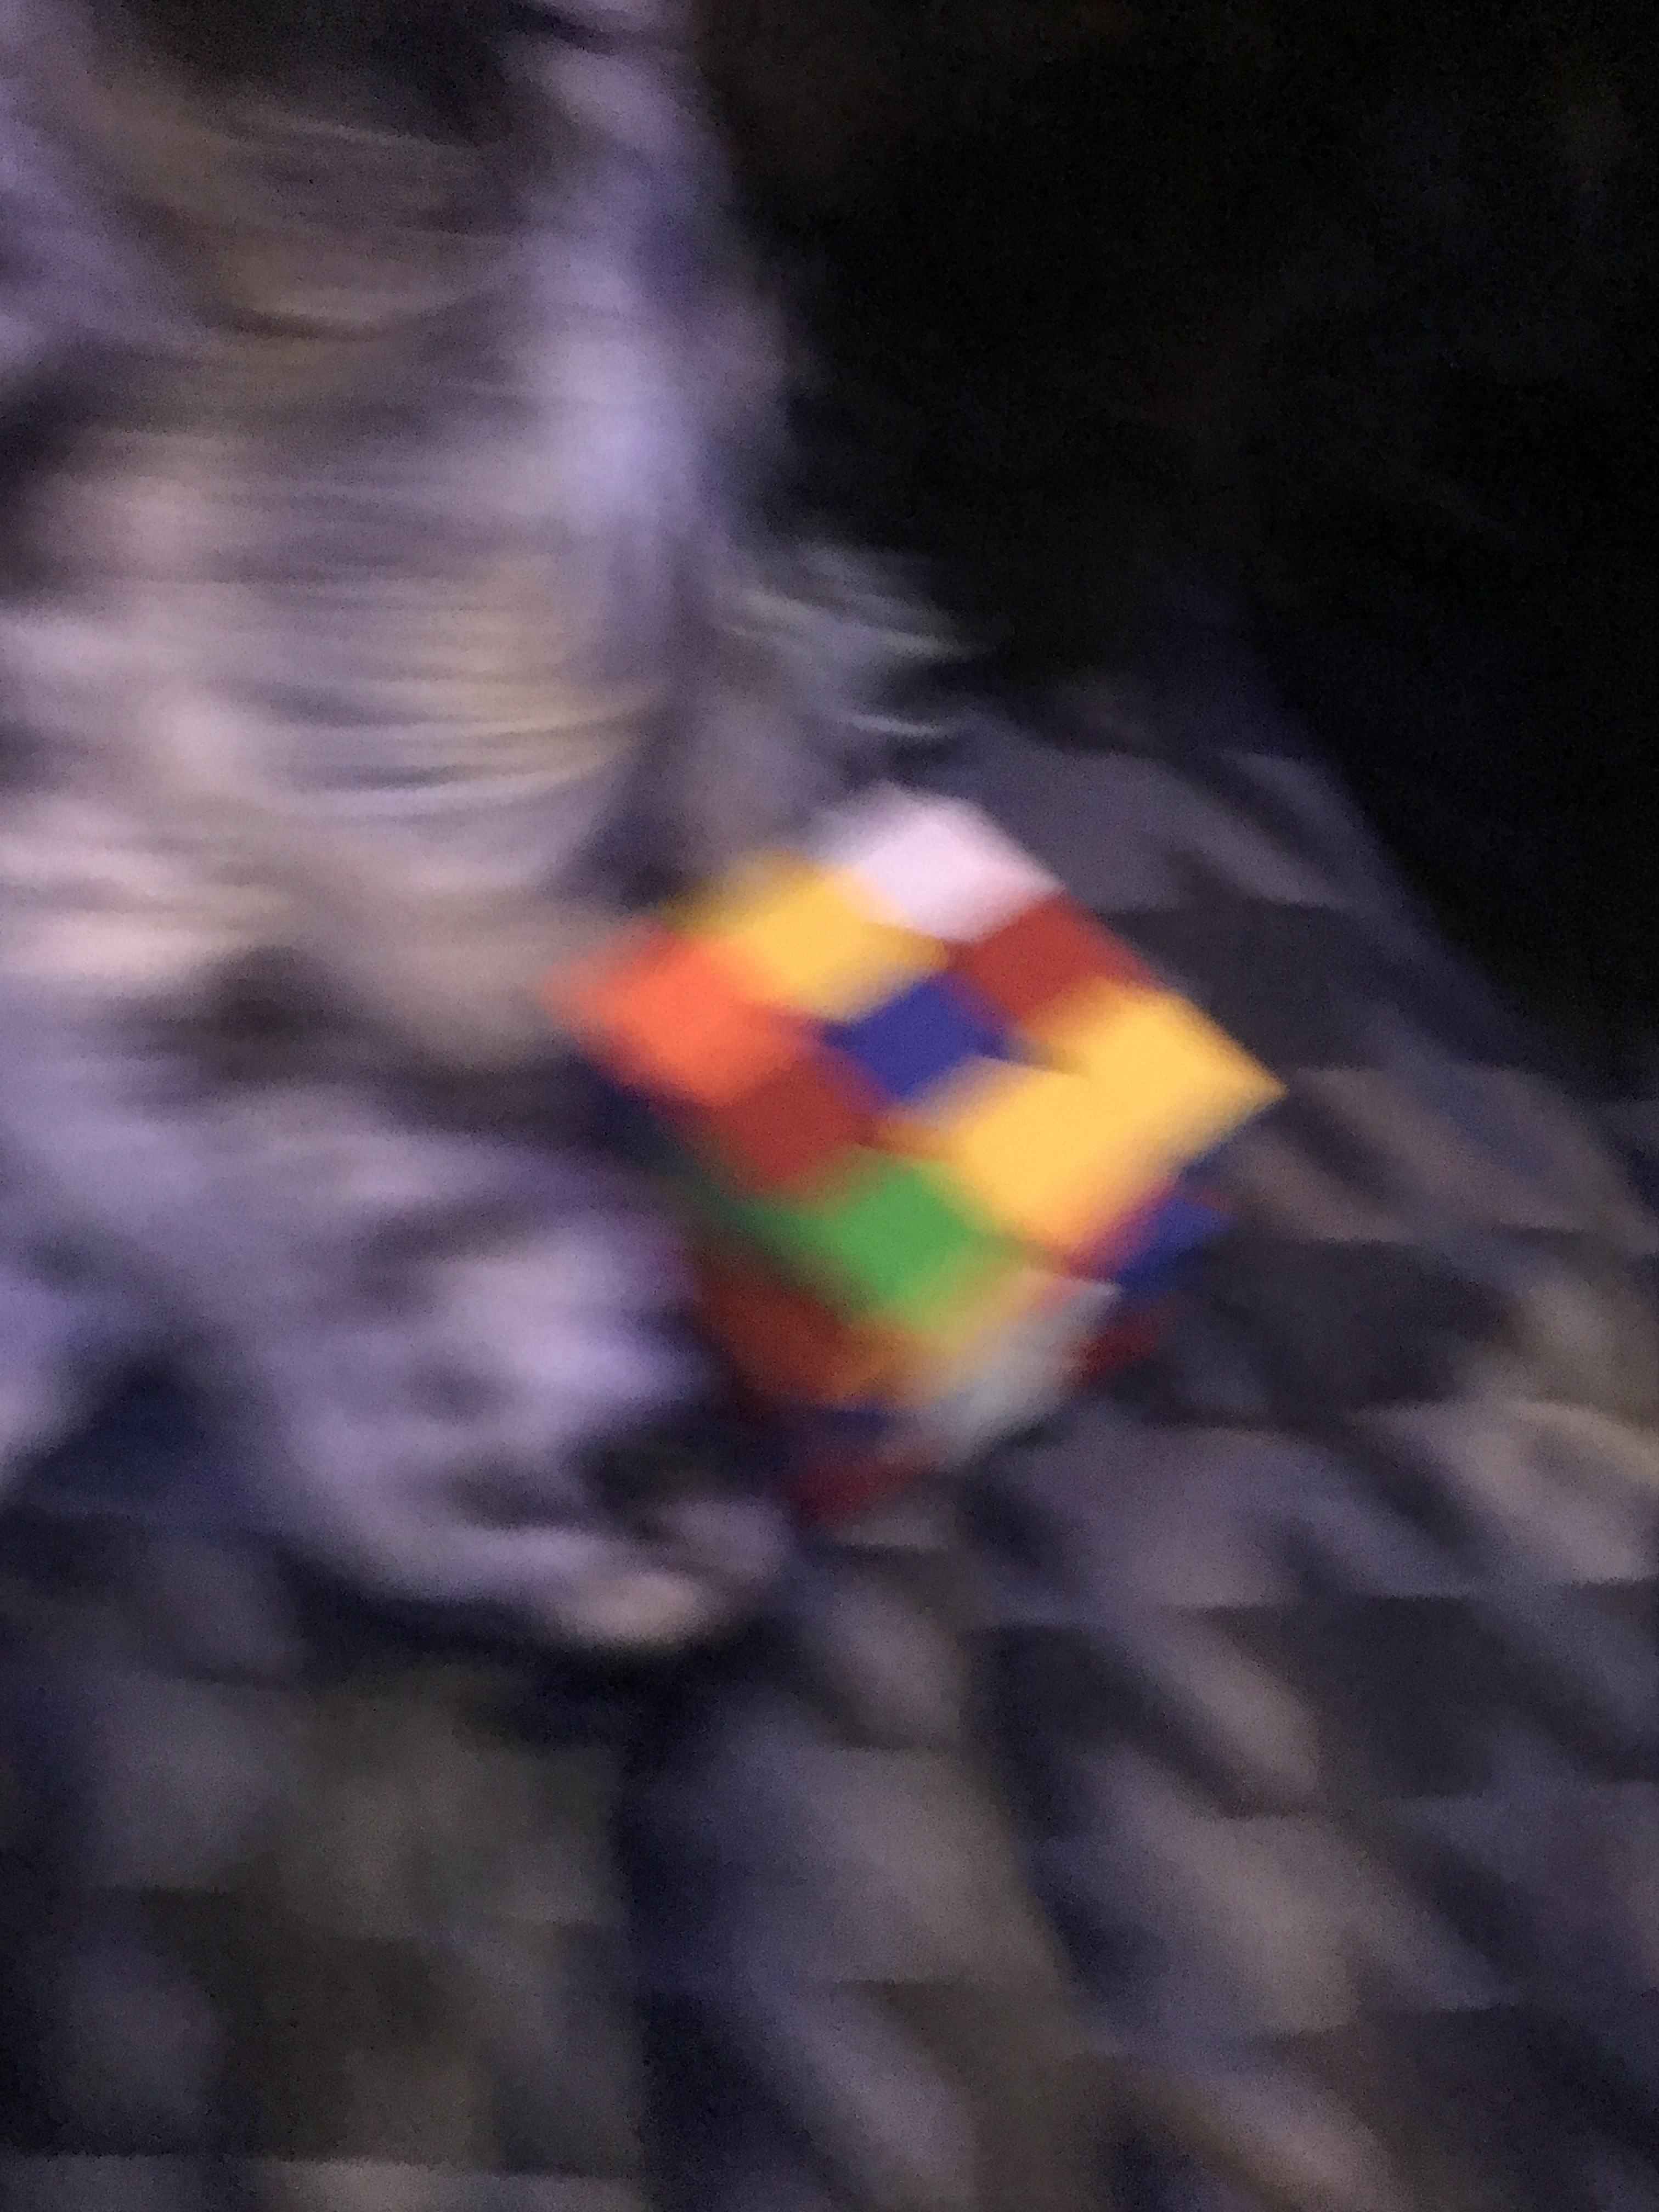rubiks: (540, 798, 1267, 1517)
